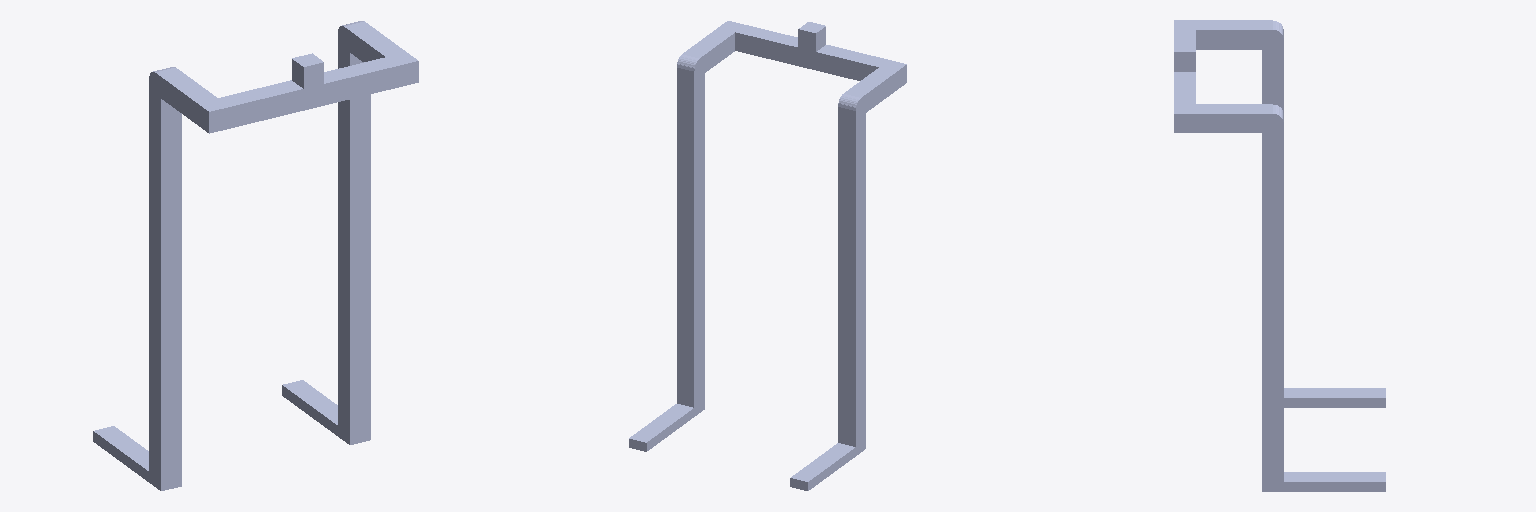
URDF robot description (march7_description_lr):
<?xml version="1.0" encoding="utf-8"?>
<!-- This URDF was automatically created by SolidWorks to URDF Exporter! Originally created by [author] ([email redacted]) 
     Commit Version: 1.6.0-1-g15f4949  Build Version: 1.6.7594.29634
     For more information, please see http://wiki.ros.org/sw_urdf_exporter -->
<robot name="march7_description_lr">
  <link name="base_link">
    <inertial>
      <origin xyz="1.4875E-16 0.039393 0.19048" rpy="0 0 0" />
      <mass value="0.61034" />
      <inertia ixx="0.0052863" ixy="1.2997E-19" ixz="2.5843E-19" iyy="0.0045574" iyz="-0.0011083" izz="0.0009832" />
    </inertial>
    <visual>
      <origin xyz="0 0 0" rpy="0 0 0" />
      <geometry>
        <mesh filename="package://march7_description_lr/meshes/base_link.STL" />
      </geometry>
      <material name="">
        <color rgba="0.79216 0.81961 0.93333 1" />
      </material>
    </visual>
    <collision>
      <origin xyz="0 0 0" rpy="0 0 0" />
      <geometry>
        <mesh filename="package://march7_description_lr/meshes/base_link.STL" />
      </geometry>
    </collision>
  </link>
  <link name="left_lower_leg">
    <inertial>
      <origin xyz="6.4248E-15 0.205 -1.4988E-15" rpy="0 0 0" />
      <mass value="1.1232" />
      <inertia ixx="0.019156" ixy="1.7871E-19" ixz="-1.3892E-20" iyy="0.00046288" iyz="-1.0588E-19" izz="0.019161" />
    </inertial>
    <visual>
      <origin xyz="0 0 0" rpy="0 0 0" />
      <geometry>
        <mesh filename="package://march7_description_lr/meshes/left_lower_leg.STL" />
      </geometry>
      <material name="">
        <color rgba="0.79216 0.81961 0.93333 1" />
      </material>
    </visual>
    <collision>
      <origin xyz="0 0 0" rpy="0 0 0" />
      <geometry>
        <mesh filename="package://march7_description_lr/meshes/left_lower_leg.STL" />
      </geometry>
    </collision>
  </link>
  <joint name="left_ankle" type="revolute">
    <origin xyz="0 -0.258 0.108" rpy="1.5708 0 0" />
    <parent link="base_link" />
    <child link="left_lower_leg" />
    <axis xyz="-1 0 0" />
    <limit lower="-1.2217" upper="0.087266" effort="0" velocity="0" />
  </joint>
  <link name="left_upper_leg">
    <inertial>
      <origin xyz="-2.1222E-16 0.205 -4.5519E-15" rpy="0 0 0" />
      <mass value="1.1232" />
      <inertia ixx="0.019156" ixy="3.1159E-19" ixz="-3.6451E-20" iyy="0.00046288" iyz="-3.1764E-19" izz="0.019161" />
    </inertial>
    <visual>
      <origin xyz="0 0 0" rpy="0 0 0" />
      <geometry>
        <mesh filename="package://march7_description_lr/meshes/left_upper_leg.STL" />
      </geometry>
      <material name="">
        <color rgba="0.79216 0.81961 0.93333 1" />
      </material>
    </visual>
    <collision>
      <origin xyz="0 0 0" rpy="0 0 0" />
      <geometry>
        <mesh filename="package://march7_description_lr/meshes/left_upper_leg.STL" />
      </geometry>
    </collision>
  </link>
  <joint name="left_knee" type="revolute">
    <origin xyz="0 0.41 0" rpy="0 0 0" />
    <parent link="left_lower_leg" />
    <child link="left_upper_leg" />
    <axis xyz="1 0 0" />
    <limit lower="0" upper="2.3562" effort="0" velocity="0" />
  </joint>
  <link name="left_hip">
    <inertial>
      <origin xyz="-0.037749 -6.6613E-16 -0.1395" rpy="0 0 0" />
      <mass value="0.98442" />
      <inertia ixx="0.0055337" ixy="4.5142E-18" ixz="-0.0022482" iyy="0.0084589" iyz="9.6495E-18" izz="0.0033252" />
    </inertial>
    <visual>
      <origin xyz="0 0 0" rpy="0 0 0" />
      <geometry>
        <mesh filename="package://march7_description_lr/meshes/left_hip.STL" />
      </geometry>
      <material name="">
        <color rgba="0.79216 0.81961 0.93333 1" />
      </material>
    </visual>
    <collision>
      <origin xyz="0 0 0" rpy="0 0 0" />
      <geometry>
        <mesh filename="package://march7_description_lr/meshes/left_hip.STL" />
      </geometry>
    </collision>
  </link>
  <joint name="left_hip_fe" type="revolute">
    <origin xyz="0 0.41 0" rpy="3.1416 0 3.1416" />
    <parent link="left_upper_leg" />
    <child link="left_hip" />
    <axis xyz="1 0 0" />
    <limit lower="-0.2618" upper="2.0071" effort="0" velocity="0" />
  </joint>
  <link name="hip">
    <inertial>
      <origin xyz="0.0725 0.010671 0.025" rpy="0 0 0" />
      <mass value="0.58567" />
      <inertia ixx="0.00048472" ixy="-3.5847E-20" ixz="-1.1997E-22" iyy="0.0014656" iyz="1.6217E-22" izz="0.0017063" />
    </inertial>
    <visual>
      <origin xyz="0 0 0" rpy="0 0 0" />
      <geometry>
        <mesh filename="package://march7_description_lr/meshes/hip.STL" />
      </geometry>
      <material name="">
        <color rgba="0.79216 0.81961 0.93333 1" />
      </material>
    </visual>
    <collision>
      <origin xyz="0 0 0" rpy="0 0 0" />
      <geometry>
        <mesh filename="package://march7_description_lr/meshes/hip.STL" />
      </geometry>
    </collision>
  </link>
  <joint name="left_hip_aa" type="revolute">
    <origin xyz="-0.1545 0 -0.175" rpy="3.1416 0 3.1416" />
    <parent link="left_hip" />
    <child link="hip" />
    <axis xyz="0 0 1" />
    <limit lower="-0.34907" upper="0.5236" effort="0" velocity="0" />
  </joint>
  <link name="right_hip">
    <inertial>
      <origin xyz="0.11675 1.9984E-15 0.035499" rpy="0 0 0" />
      <mass value="0.98442" />
      <inertia ixx="0.0055337" ixy="-6.8866E-18" ixz="-0.0022482" iyy="0.0084589" iyz="-1.285E-17" izz="0.0033252" />
    </inertial>
    <visual>
      <origin xyz="0 0 0" rpy="0 0 0" />
      <geometry>
        <mesh filename="package://march7_description_lr/meshes/right_hip.STL" />
      </geometry>
      <material name="">
        <color rgba="0.79216 0.81961 0.93333 1" />
      </material>
    </visual>
    <collision>
      <origin xyz="0 0 0" rpy="0 0 0" />
      <geometry>
        <mesh filename="package://march7_description_lr/meshes/right_hip.STL" />
      </geometry>
    </collision>
  </link>
  <joint name="right_hip_aa" type="revolute">
    <origin xyz="0.145 0 0" rpy="-3.1416 0 0" />
    <parent link="hip" />
    <child link="right_hip" />
    <axis xyz="0 0 -1" />
    <limit lower="-0.34907" upper="0.5236" effort="0" velocity="0" />
  </joint>
  <link name="right_upper_leg">
    <inertial>
      <origin xyz="0.025 -0.205 0" rpy="0 0 0" />
      <mass value="1.1232" />
      <inertia ixx="0.019156" ixy="5.1688E-19" ixz="-9.4983E-20" iyy="0.00046288" iyz="-2.9117E-19" izz="0.019161" />
    </inertial>
    <visual>
      <origin xyz="0 0 0" rpy="0 0 0" />
      <geometry>
        <mesh filename="package://march7_description_lr/meshes/right_upper_leg.STL" />
      </geometry>
      <material name="">
        <color rgba="0.79216 0.81961 0.93333 1" />
      </material>
    </visual>
    <collision>
      <origin xyz="0 0 0" rpy="0 0 0" />
      <geometry>
        <mesh filename="package://march7_description_lr/meshes/right_upper_leg.STL" />
      </geometry>
    </collision>
  </link>
  <joint name="right_hip_fe" type="revolute">
    <origin xyz="0.1295 0 0.175" rpy="3.1416 0 0" />
    <parent link="right_hip" />
    <child link="right_upper_leg" />
    <axis xyz="1 0 0" />
    <limit lower="-0.2618" upper="2.0071" effort="0" velocity="0" />
  </joint>
  <link name="right_lower_leg">
    <inertial>
      <origin xyz="0.025 -0.205 5.5511E-17" rpy="0 0 0" />
      <mass value="1.1232" />
      <inertia ixx="0.019156" ixy="3.2727E-19" ixz="-9.2783E-20" iyy="0.00046288" iyz="1.3235E-19" izz="0.019161" />
    </inertial>
    <visual>
      <origin xyz="0 0 0" rpy="0 0 0" />
      <geometry>
        <mesh filename="package://march7_description_lr/meshes/right_lower_leg.STL" />
      </geometry>
      <material name="">
        <color rgba="0.79216 0.81961 0.93333 1" />
      </material>
    </visual>
    <collision>
      <origin xyz="0 0 0" rpy="0 0 0" />
      <geometry>
        <mesh filename="package://march7_description_lr/meshes/right_lower_leg.STL" />
      </geometry>
    </collision>
  </link>
  <joint name="right_knee" type="revolute">
    <origin xyz="0 -0.41 0" rpy="0 0 0" />
    <parent link="right_upper_leg" />
    <child link="right_lower_leg" />
    <axis xyz="-1 0 0" />
    <limit lower="0" upper="2.3562" effort="0" velocity="0" />
  </joint>
  <link name="right_foot">
    <inertial>
      <origin xyz="-0.025 -0.068607 0.067523" rpy="0 0 0" />
      <mass value="0.61034" />
      <inertia ixx="0.0052863" ixy="-1.4086E-18" ixz="6.2808E-18" iyy="0.0045574" iyz="0.0011083" izz="0.0009832" />
    </inertial>
    <visual>
      <origin xyz="0 0 0" rpy="0 0 0" />
      <geometry>
        <mesh filename="package://march7_description_lr/meshes/right_foot.STL" />
      </geometry>
      <material name="">
        <color rgba="0.79216 0.81961 0.93333 1" />
      </material>
    </visual>
    <collision>
      <origin xyz="0 0 0" rpy="0 0 0" />
      <geometry>
        <mesh filename="package://march7_description_lr/meshes/right_foot.STL" />
      </geometry>
    </collision>
  </link>
  <joint name="right_ankle" type="revolute">
    <origin xyz="0 -0.41 0" rpy="3.1416 0 3.1416" />
    <parent link="right_lower_leg" />
    <child link="right_foot" />
    <axis xyz="-1 0 0" />
    <limit lower="-1.2217" upper="0.087266" effort="0" velocity="0" />
  </joint>
</robot>

--- Render facts (derived) ---
The picture shows the robot from 3 angles, left to right: view 1: azimuth 30°, elevation 25°; view 2: azimuth 150°, elevation 25°; view 3: azimuth 270°, elevation 25°; orthographic projection.
Model march7_description_lr with 9 links and 8 joints (8 revolute), rooted at base_link, posed every joint at zero.
Links seen in each view (by area): view 1: left_lower_leg, right_lower_leg, left_upper_leg, left_hip, right_upper_leg, right_hip, right_foot, base_link, hip; view 2: left_upper_leg, right_upper_leg, left_lower_leg, right_lower_leg, left_hip, right_hip, base_link, right_foot, hip; view 3: right_upper_leg, right_lower_leg, right_hip, right_foot, left_hip, base_link, left_upper_leg, hip.
Boxes of the visible links, <box> form: left_lower_leg: <box>149,250,181,451</box>; right_lower_leg: <box>338,204,370,405</box>; left_upper_leg: <box>149,70,181,266</box>; left_hip: <box>149,67,293,133</box>; right_upper_leg: <box>338,21,370,226</box>; right_hip: <box>332,21,418,100</box>; right_foot: <box>282,380,370,444</box>; base_link: <box>93,426,181,490</box>; hip: <box>273,53,353,114</box>; left_upper_leg: <box>838,96,865,263</box>; right_upper_leg: <box>677,56,704,230</box>; left_lower_leg: <box>838,254,865,421</box>; right_lower_leg: <box>677,211,704,382</box>; left_hip: <box>824,49,906,112</box>; right_hip: <box>677,21,790,76</box>; base_link: <box>790,403,865,490</box>; right_foot: <box>629,363,704,451</box>; hip: <box>773,22,842,74</box>; right_upper_leg: <box>1262,105,1283,295</box>; right_lower_leg: <box>1262,276,1283,448</box>; right_hip: <box>1174,80,1283,132</box>; right_foot: <box>1262,448,1385,491</box>; left_hip: <box>1174,20,1283,49</box>; base_link: <box>1284,388,1385,407</box>; left_upper_leg: <box>1262,22,1283,112</box>; hip: <box>1174,43,1195,79</box>.
Bounding box of the posed robot: 0.504 × 0.483 × 1 m (x, y, z).
9 mesh visuals loaded from 9 distinct referenced files (9 binary STL).
